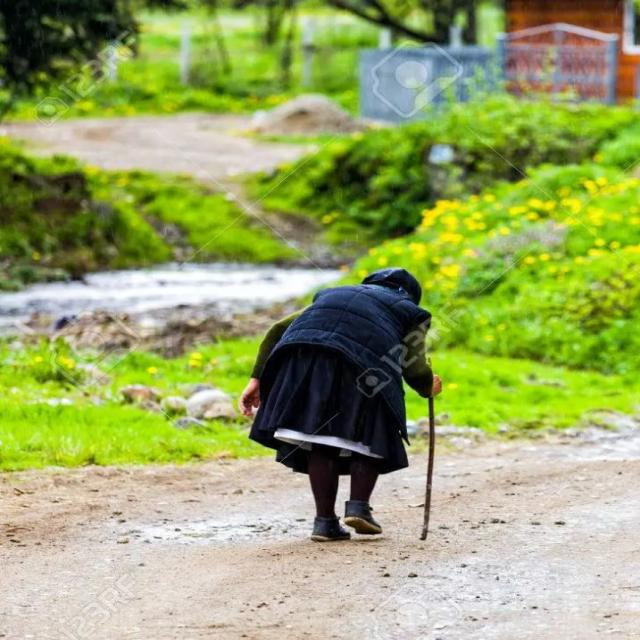idoso em pe: (236, 245, 432, 542)
